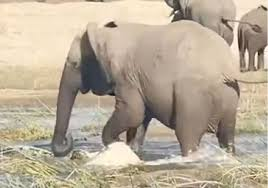Elephant: (34, 14, 244, 164)
